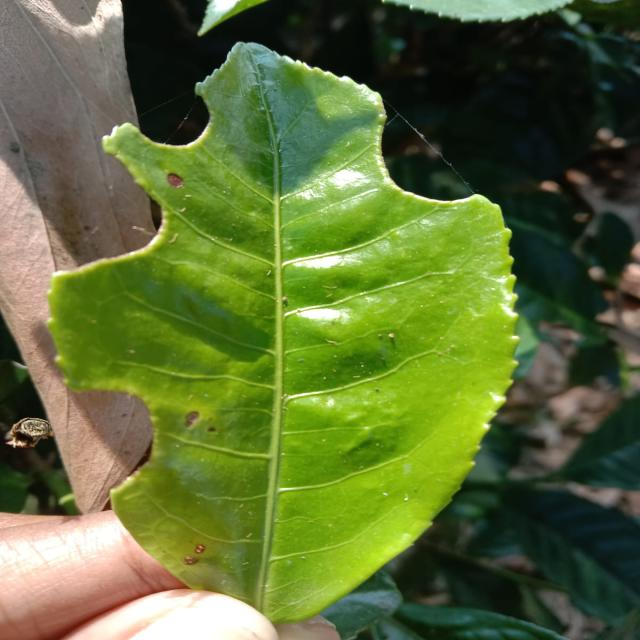Category B(2-4 days): (35, 17, 537, 624)
